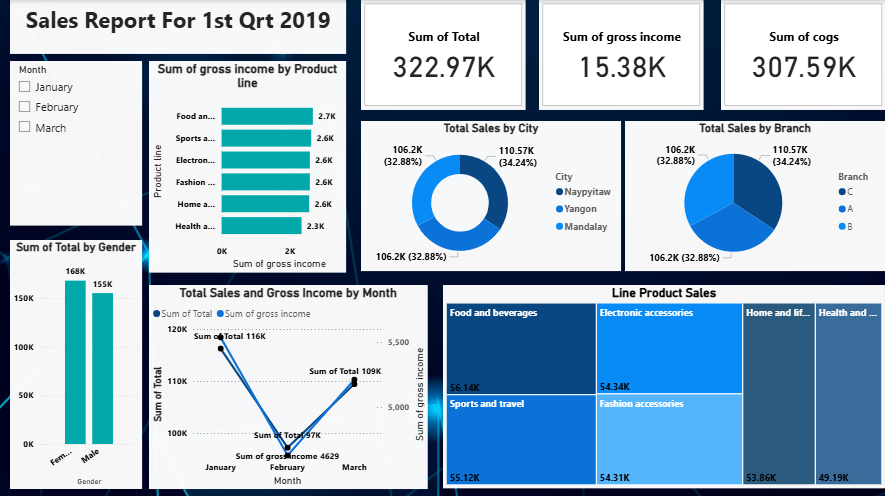

This screenshot's page, from the dashboard's own definition file:
{"tool":"powerbi","page":{"name":"Page 1","canvas":[1280,720],"ordinal":0},"visuals":[{"type":"cardVisual","fields":{"Data":["Sum(supermarket_sales.gross income)"]},"box":[778.8,0,238,158.7],"z":0},{"type":"cardVisual","fields":{"Data":["Sum(supermarket_sales.cogs)"]},"box":[1041.8,0,238,158.7],"z":1000},{"type":"cardVisual","fields":{"Data":["Sum(supermarket_sales.Total)"]},"box":[521.6,0,238,158.7],"z":2000},{"type":"pieChart","title":"Total Sales by Branch","fields":{"Category":["supermarket_sales.Branch"],"Y":["Sum(supermarket_sales.Total)"]},"box":[903.7,174.9,376.2,217.5],"z":3000},{"type":"donutChart","title":"Total Sales by City","fields":{"Category":["supermarket_sales.City"],"Y":["Sum(supermarket_sales.Total)"]},"box":[521.6,174.9,376.2,217.5],"z":4000},{"type":"columnChart","fields":{"Category":["supermarket_sales.Gender"],"Y":["Sum(supermarket_sales.Total)"]},"box":[14.7,346.8,191,360],"z":5000},{"type":"slicer","fields":{"Values":["supermarket_sales.Date.Variation.Date Hierarchy.Month"]},"box":[14.7,88.2,191,238],"z":6000},{"type":"lineChart","title":"Total Sales and Gross Income by Month","fields":{"Category":["supermarket_sales.Date.Variation.Date Hierarchy.Month"],"Y":["Sum(supermarket_sales.Total)"],"Y2":["Sum(supermarket_sales.gross income)"]},"box":[216,411.4,402.6,295.3],"z":7000},{"type":"barChart","fields":{"Y":["Sum(supermarket_sales.gross income)"],"Category":["supermarket_sales.Product line"]},"box":[216,88.2,285.1,305.6],"z":8000},{"type":"textbox","box":[14.7,0,486.4,77.9],"z":9000},{"type":"treemap","title":"Line Product Sales","fields":{"Group":["supermarket_sales.Product line"],"Values":["Sum(supermarket_sales.Total)"]},"box":[640.7,411.4,639.2,293.9],"z":10000}]}

Visuals, with their boxes in screenshot pixels (x1, y1, x2, y2), scaled from the page's 1280x720 canvas onto the 885x496 screenshot:
cardVisual - Sum(supermarket_sales.gross income): left=538, top=0, right=703, bottom=109
cardVisual - Sum(supermarket_sales.cogs): left=720, top=0, right=884, bottom=109
cardVisual - Sum(supermarket_sales.Total): left=361, top=0, right=525, bottom=109
"Total Sales by Branch" pieChart: left=625, top=120, right=884, bottom=270
"Total Sales by City" donutChart: left=361, top=120, right=621, bottom=270
columnChart - supermarket_sales.Gender x Sum(supermarket_sales.Total): left=10, top=239, right=142, bottom=487
slicer - supermarket_sales.Date.Variation.Date Hierarchy.Month: left=10, top=61, right=142, bottom=225
"Total Sales and Gross Income by Month" lineChart: left=149, top=283, right=428, bottom=487
barChart - Sum(supermarket_sales.gross income) x supermarket_sales.Product line: left=149, top=61, right=346, bottom=271
textbox: left=10, top=0, right=346, bottom=54
"Line Product Sales" treemap: left=443, top=283, right=884, bottom=486
